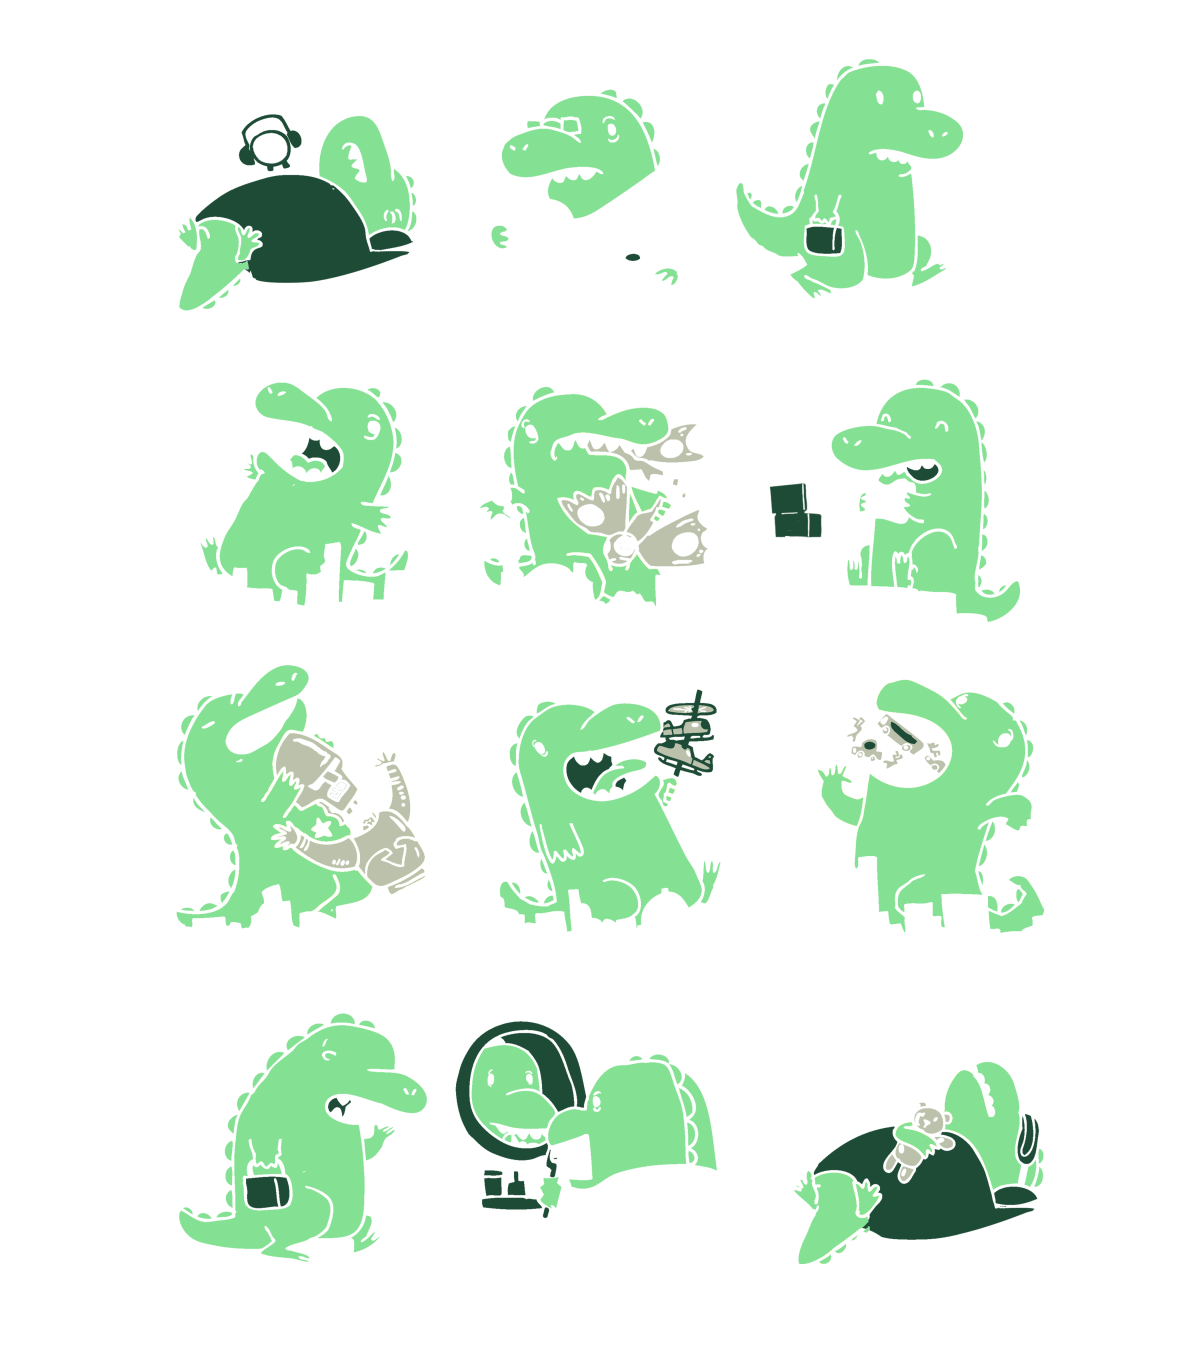design: (114, 40, 1092, 1278), (162, 42, 995, 1059)
